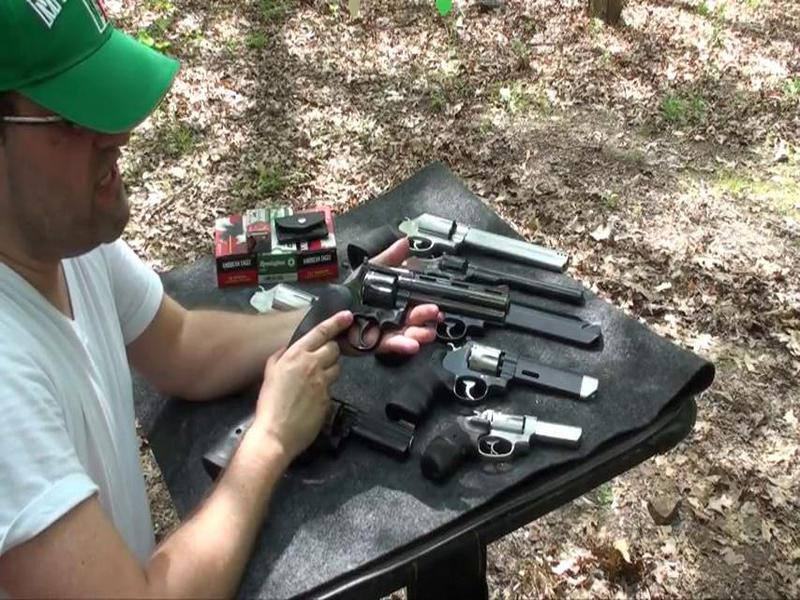Revolver: (287, 236, 516, 391)
